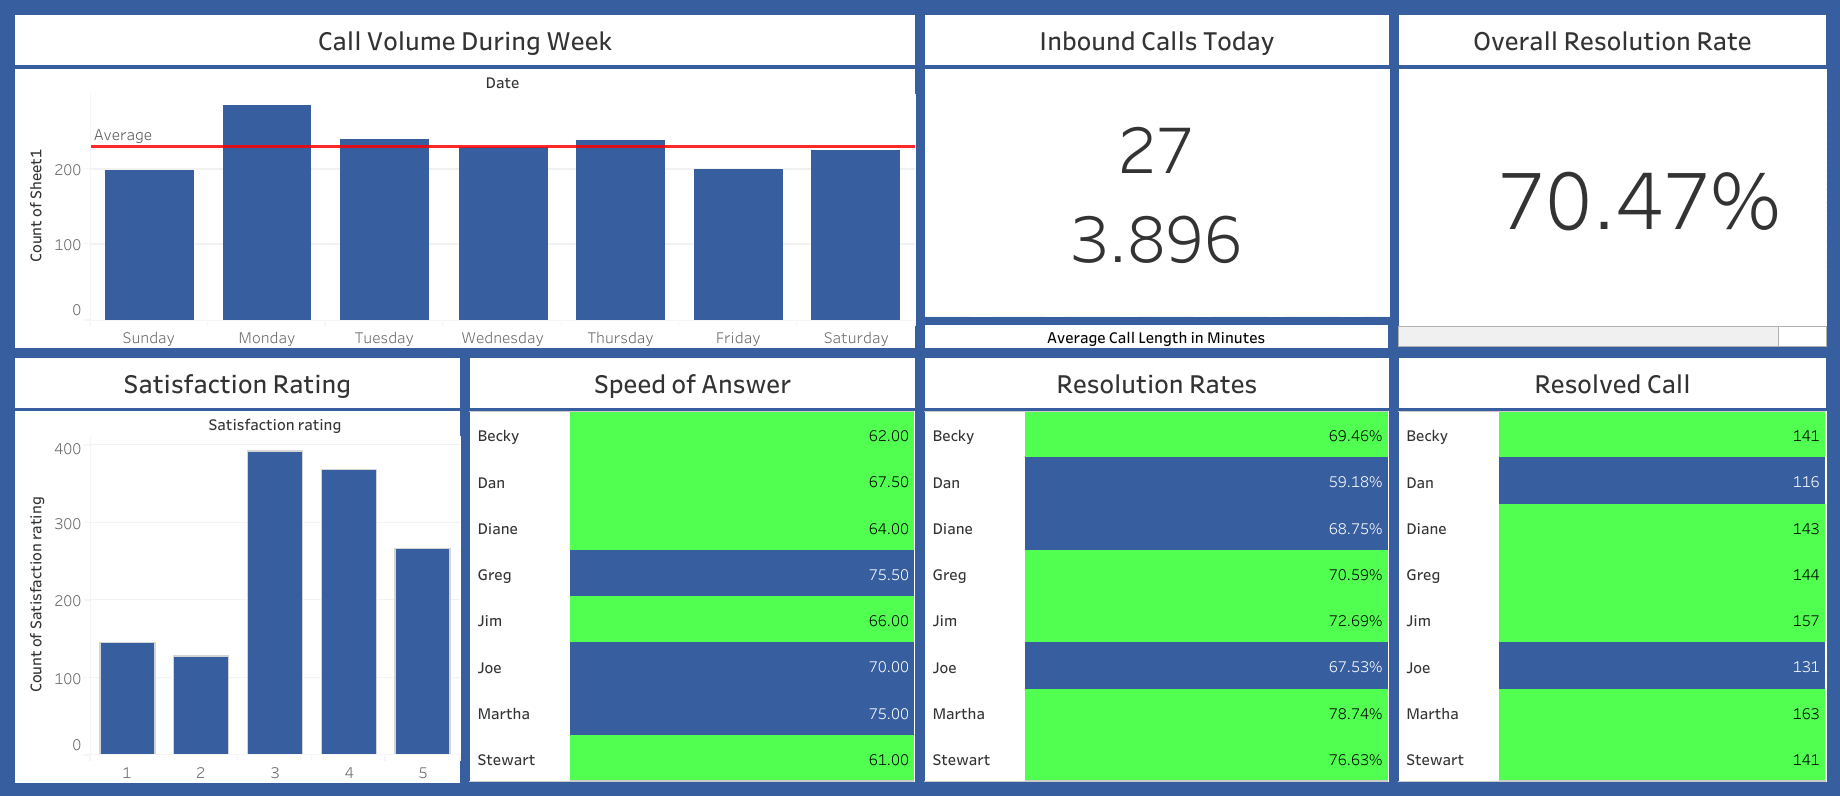

The dashboard page shown, as its layout file describes it:
{"tool":"tableau","page":{"name":"Dashboard 1","canvas":[1000,1000],"units":"permille","ordinal":0},"visuals":[{"type":"worksheet","title":"Call Volume During Week","mark":"Bar","rows":["Sheet1_1312457D97C645C7B60D56D14759E059"],"cols":["Date"],"box":[4.8,9.3,495.1,432.1]},{"type":"worksheet","title":"Calls Per Day","mark":"Automatic","box":[499.9,9.3,257.4,432.1]},{"type":"worksheet","title":"Resolution Rate","mark":"Automatic","box":[757.3,9.3,237.9,432.1]},{"type":"worksheet","title":"Satisfaction Rating","mark":"Automatic","rows":["Satisfaction rating"],"cols":["Satisfaction rating"],"box":[4.8,441.4,247.5,549.4]},{"type":"worksheet","title":"Speed of Answer","mark":"Square","rows":["Agent"],"box":[252.4,441.4,247.6,549.4]},{"type":"worksheet","title":"Resolution Rate By Agent","mark":"Square","rows":["Agent"],"box":[499.9,441.4,257.4,549.4]},{"type":"worksheet","title":"Resolved Call ","mark":"Square","rows":["Agent"],"box":[757.3,441.4,237.9,549.4]}]}

Visuals, with their boxes on the dashboard's canvas, which has no fixed pixel size, in thousandths of its width and height (x1, y1, x2, y2). These are canvas units, not pixel positions in the 1840x796 screenshot, which may show the page scaled, cropped or inside an application window:
"Call Volume During Week" worksheet (Bar marks): Rect(5, 9, 500, 441)
"Calls Per Day" worksheet: Rect(500, 9, 757, 441)
"Resolution Rate" worksheet: Rect(757, 9, 995, 441)
"Satisfaction Rating" worksheet: Rect(5, 441, 252, 991)
"Speed of Answer" worksheet (Square marks): Rect(252, 441, 500, 991)
"Resolution Rate By Agent" worksheet (Square marks): Rect(500, 441, 757, 991)
"Resolved Call " worksheet (Square marks): Rect(757, 441, 995, 991)
